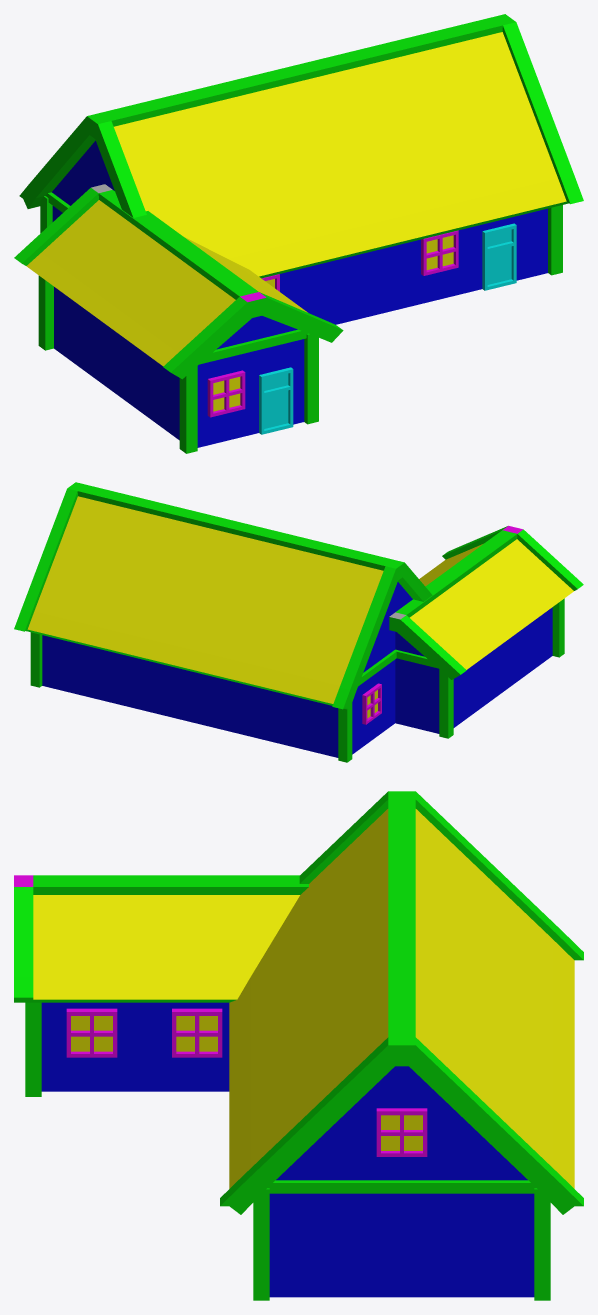
Rendered from PlaytestHouse_02_model.fbx.
3 views of the same model, one above another, from view 1: azimuth 30°, elevation 25°; view 2: azimuth 150°, elevation 25°; view 3: azimuth 270°, elevation 25° (orthographic). The views are drawn at different scales.
Visible parts, largest first — view 1: House_03_copy; view 2: House_03_copy; view 3: House_03_copy.
Boxes of the visible parts, <box> form: House_03_copy: <box>14,14,583,453</box>; House_03_copy: <box>14,482,583,762</box>; House_03_copy: <box>14,791,583,1300</box>.
Size of the model in its own units: 1521 by 612 by 1216.
